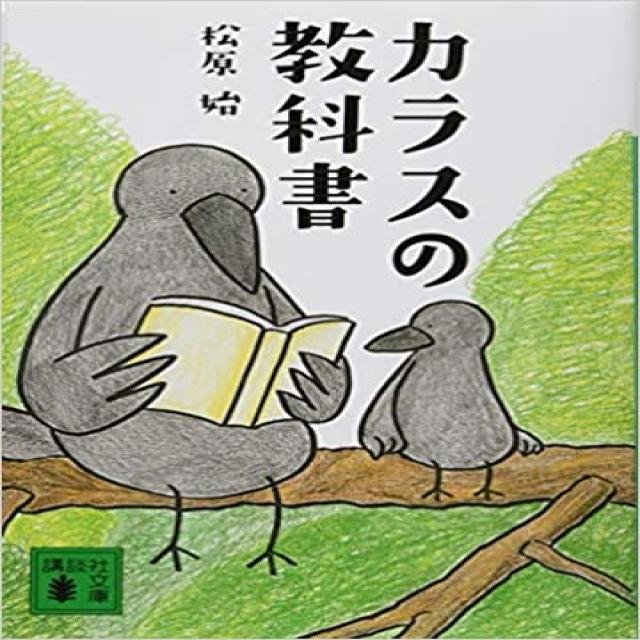crow: (4, 143, 352, 582), (365, 297, 548, 500)
